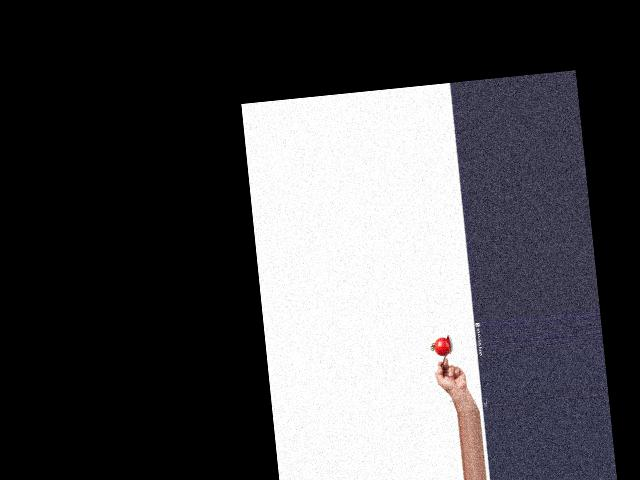tomato: (433, 337, 451, 357)
